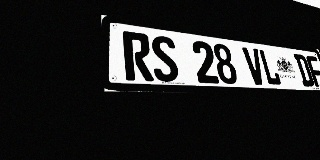2: (191, 40, 219, 83)
8: (212, 43, 239, 84)
D: (293, 54, 315, 87)
F: (305, 55, 320, 87)
L: (258, 49, 282, 86)
R: (122, 31, 154, 81)
S: (150, 34, 180, 82)
V: (242, 47, 267, 85)
